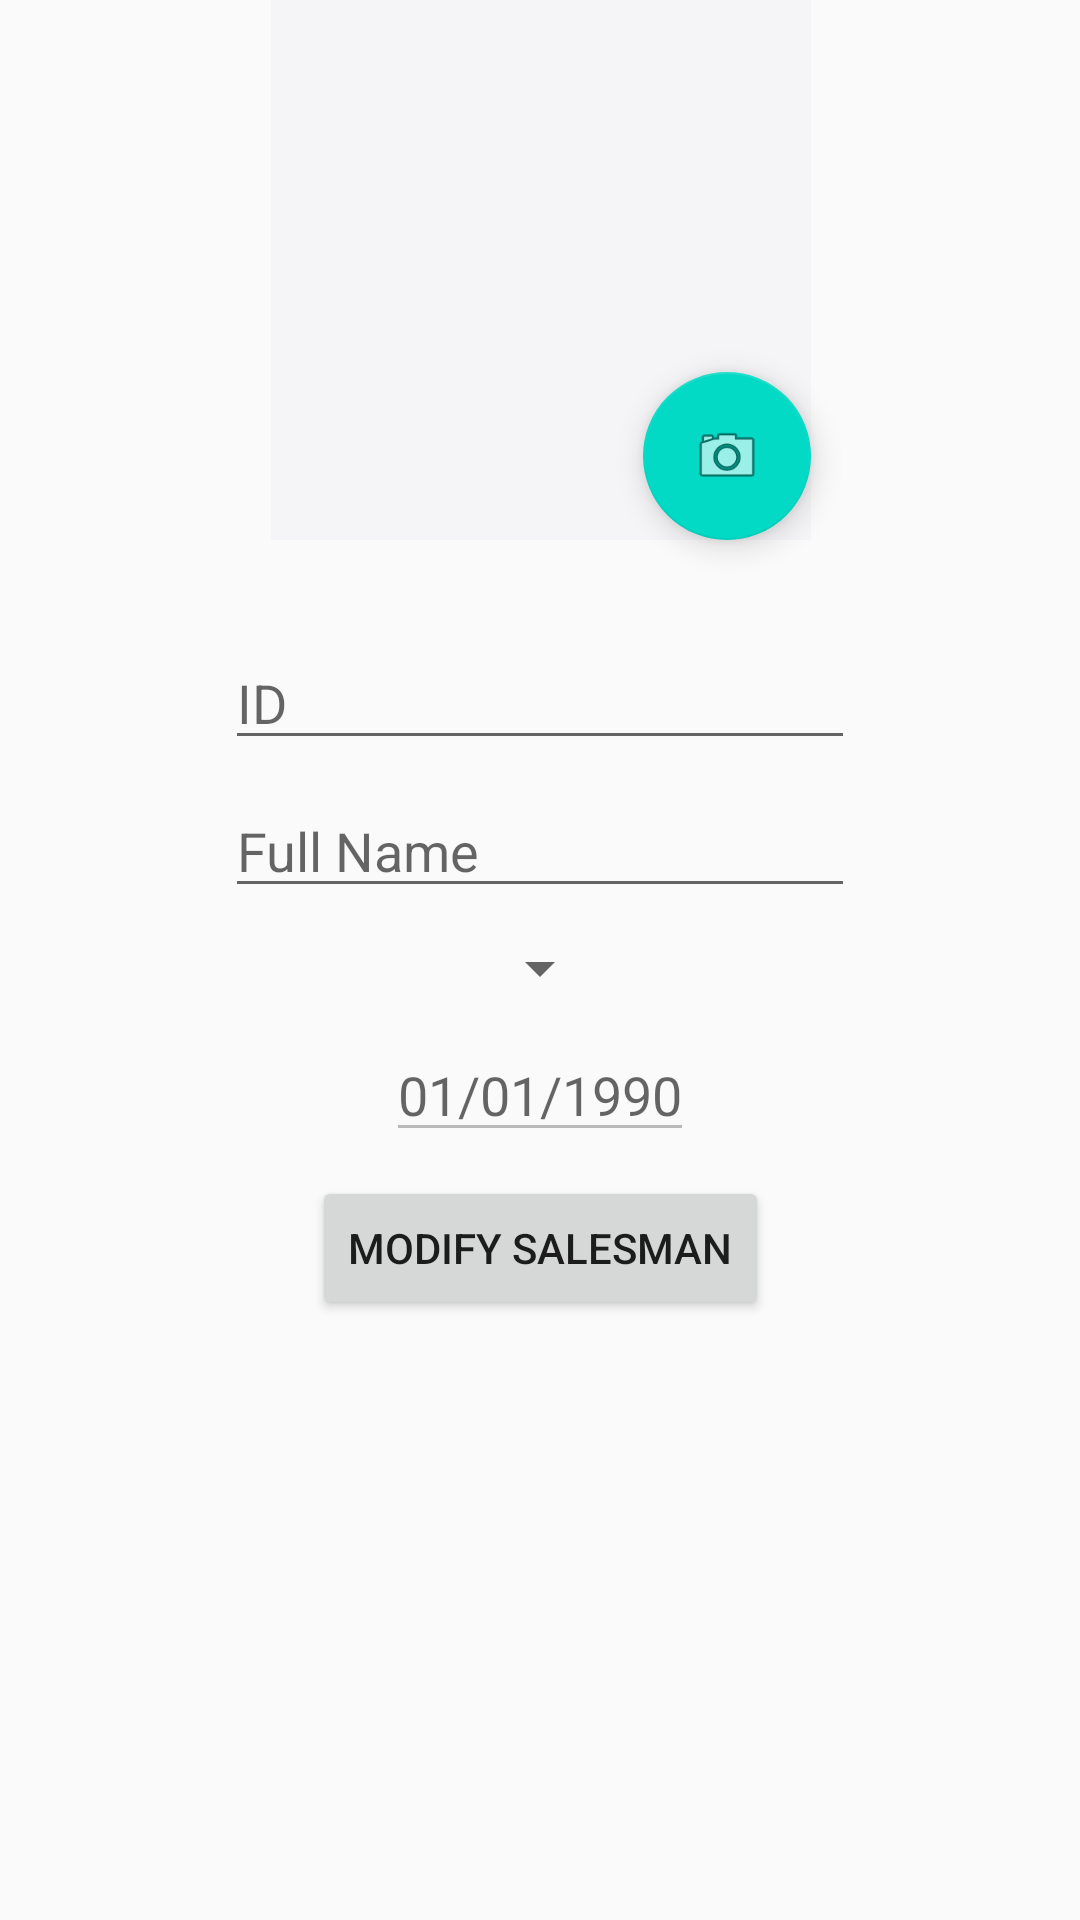

Icon click points for this 1080px x 1920px phone screenshot, format (x,y):
camera: (727,456)
